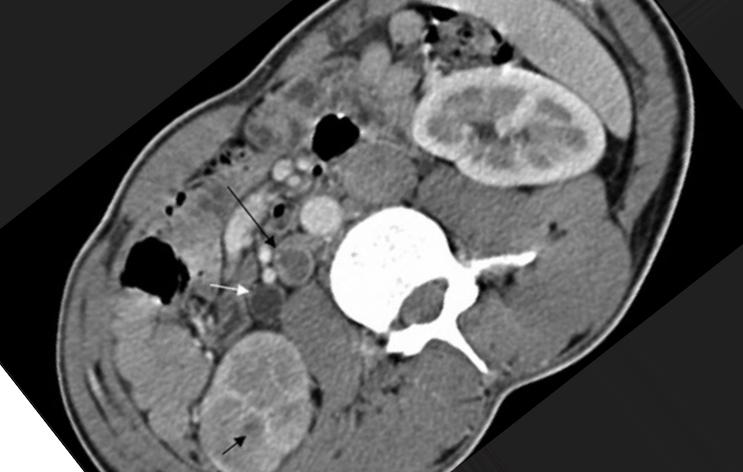anomaly: (276, 249, 319, 289)
